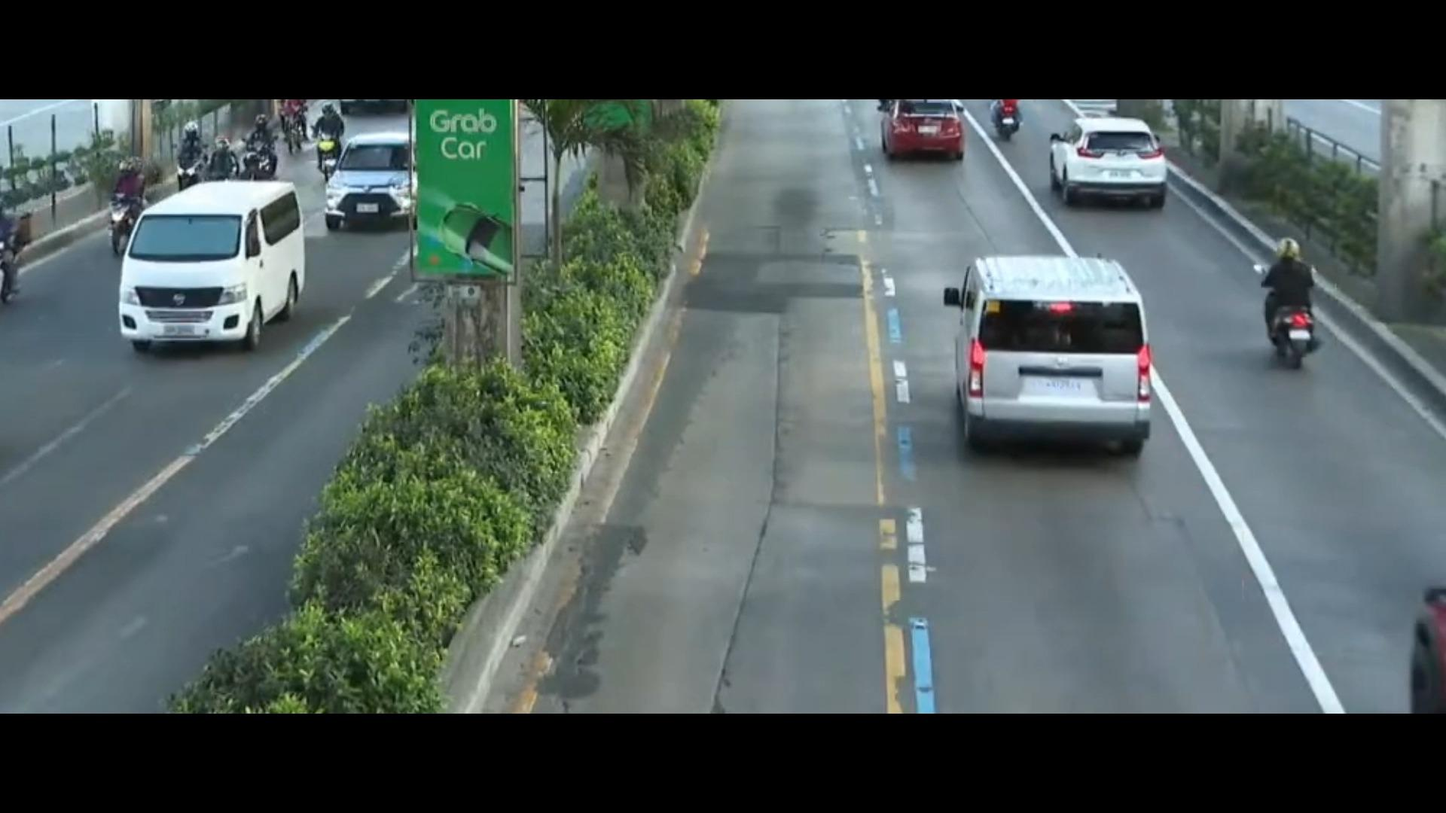Motorcycle: (1246, 224, 1346, 398), (79, 133, 164, 264), (0, 179, 48, 316), (258, 91, 314, 169), (161, 93, 201, 194), (300, 103, 354, 175), (189, 118, 231, 194), (226, 111, 269, 183), (979, 96, 1032, 147)
SUV: (1033, 103, 1178, 228), (319, 131, 437, 239), (863, 98, 975, 188)
Van: (917, 239, 1168, 505), (99, 169, 322, 380)
